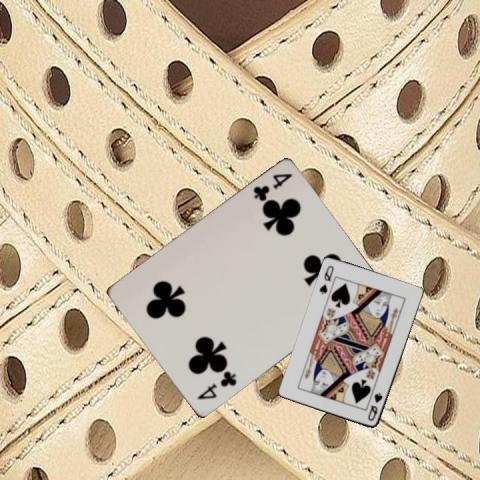4c: (194, 369, 238, 402), (250, 171, 294, 203)
Qs: (365, 390, 384, 423), (317, 263, 335, 295)
